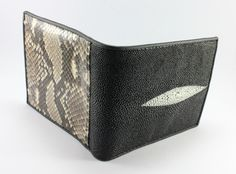monedero: (21, 10, 220, 163)
